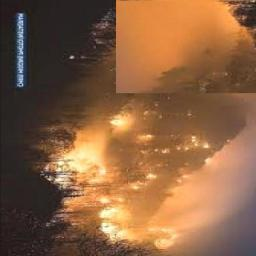Heavy smoke: (115, 0, 253, 93)
Medium fire: (44, 85, 223, 251)
